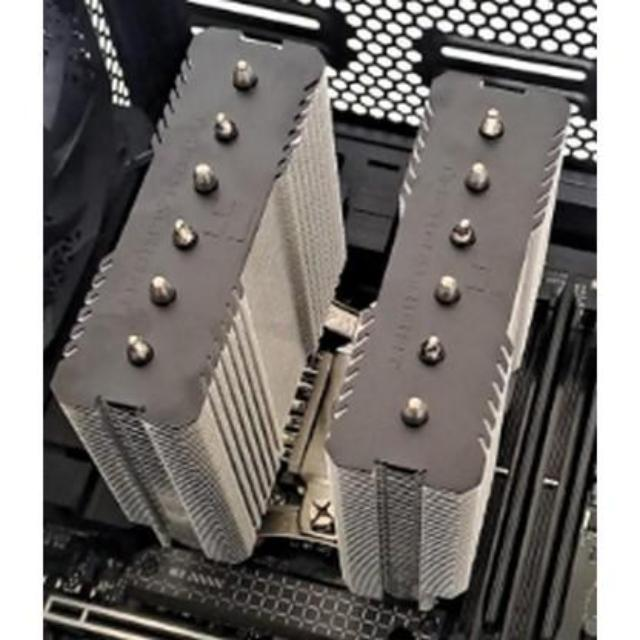CPU_Fan: (50, 23, 572, 612)
